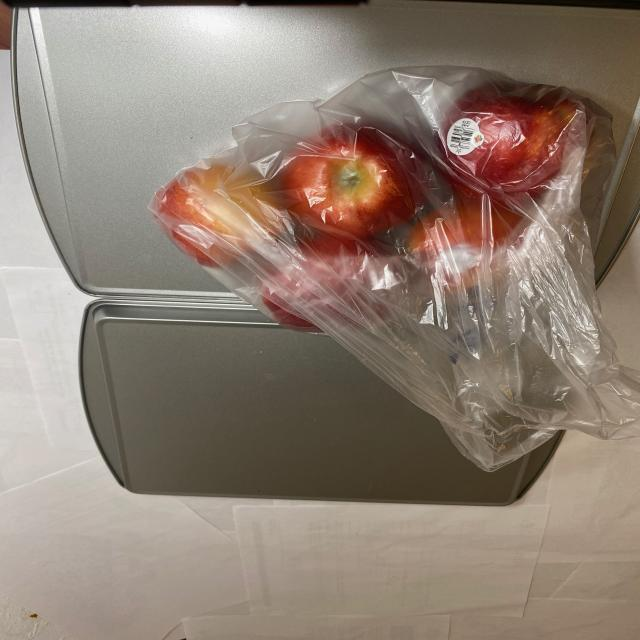apple: (160, 78, 604, 366)
